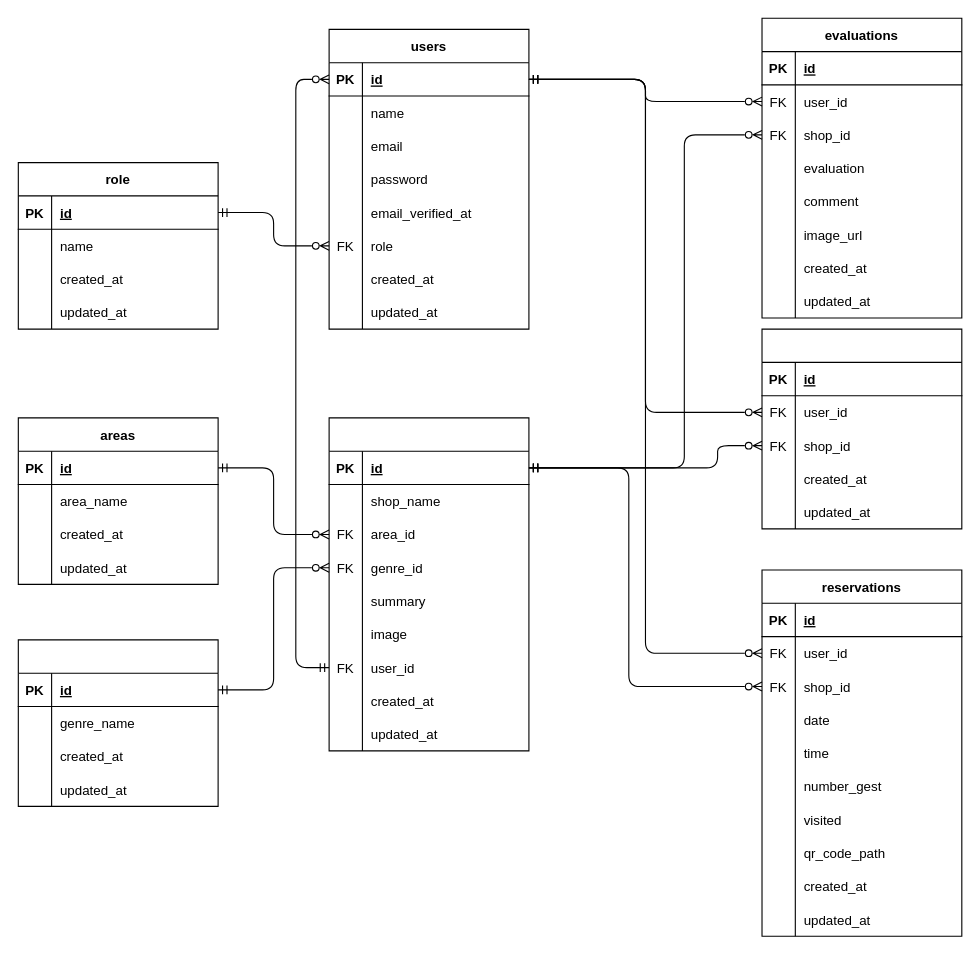
The diagram is 980 pixels wide and 955 high, and some of its shapes have lost their labels. Each missing label, with the box of its shape:
favorites: (761, 328, 962, 529)
genres: (17, 639, 218, 806)
shops: (328, 417, 529, 751)
